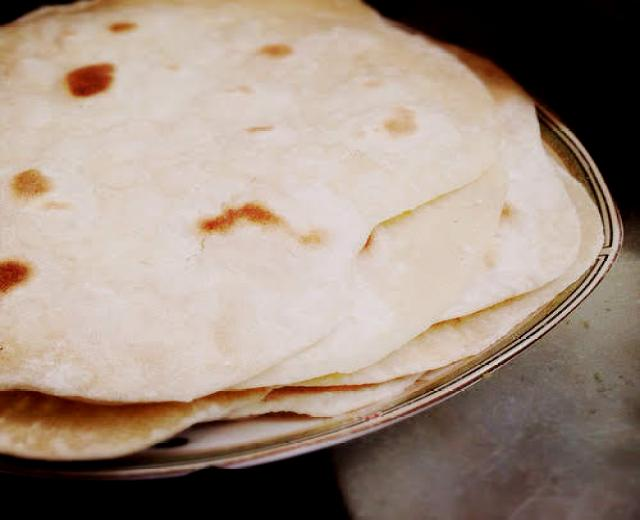chapati: (0, 0, 506, 407)
